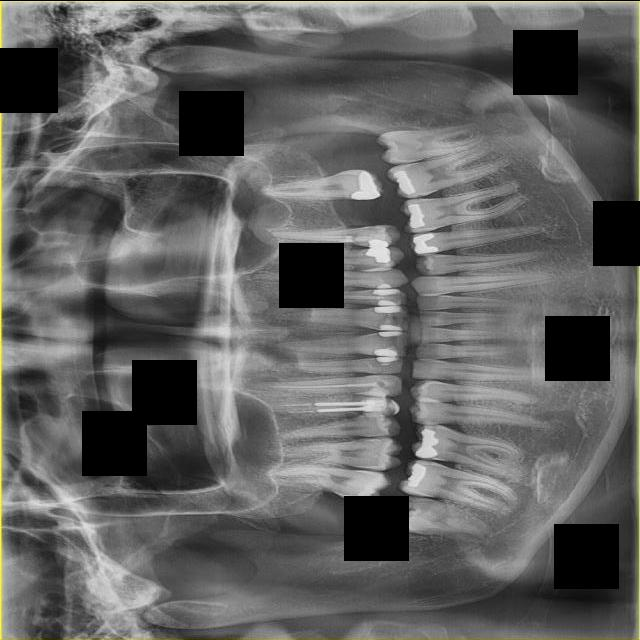71: (314, 397, 383, 408), (315, 404, 386, 411)
74: (271, 381, 379, 390), (287, 291, 385, 300), (279, 232, 353, 238), (282, 402, 312, 406), (289, 409, 315, 412)
NucleOSS Implant: (343, 168, 382, 207), (416, 427, 442, 459), (392, 166, 416, 196), (405, 461, 428, 490), (412, 232, 439, 253), (406, 201, 426, 227), (365, 245, 392, 262), (367, 238, 389, 248), (352, 469, 366, 474)
Sterngold Implant: (356, 436, 384, 443), (422, 414, 439, 423), (420, 459, 437, 464), (427, 423, 440, 429), (415, 230, 430, 235), (413, 192, 426, 197), (418, 227, 431, 232), (428, 252, 436, 259), (421, 457, 437, 460), (414, 197, 423, 202)
Straumann Implant: (367, 388, 400, 416), (354, 385, 391, 396), (376, 354, 399, 366), (371, 287, 400, 296), (374, 345, 398, 355), (374, 305, 400, 313), (379, 323, 403, 330), (378, 330, 405, 336), (378, 299, 398, 305), (375, 282, 392, 288)
